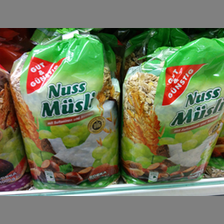cereal: (10, 33, 120, 189), (121, 40, 224, 183)
